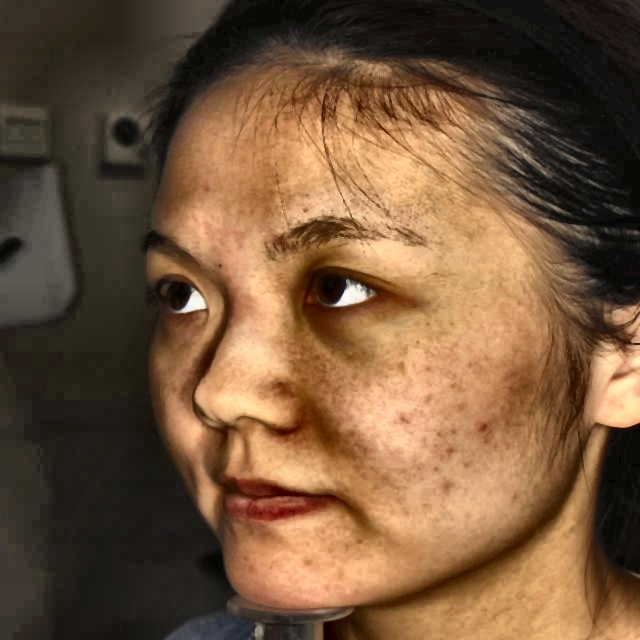comedone: (253, 556, 276, 584), (475, 414, 500, 439)
